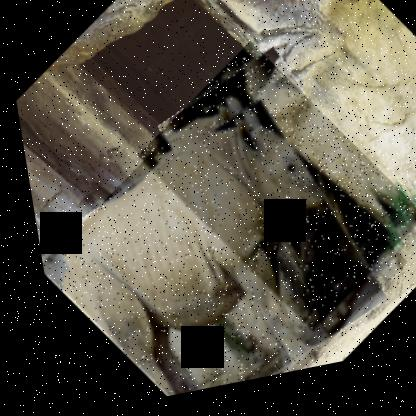Diceros bicornis: (15, 63, 408, 415), (119, 26, 415, 364)
